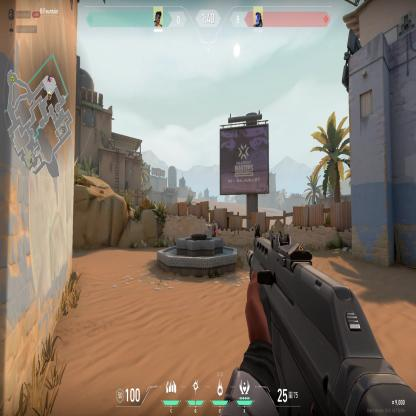enemy: (208, 220, 217, 237)
